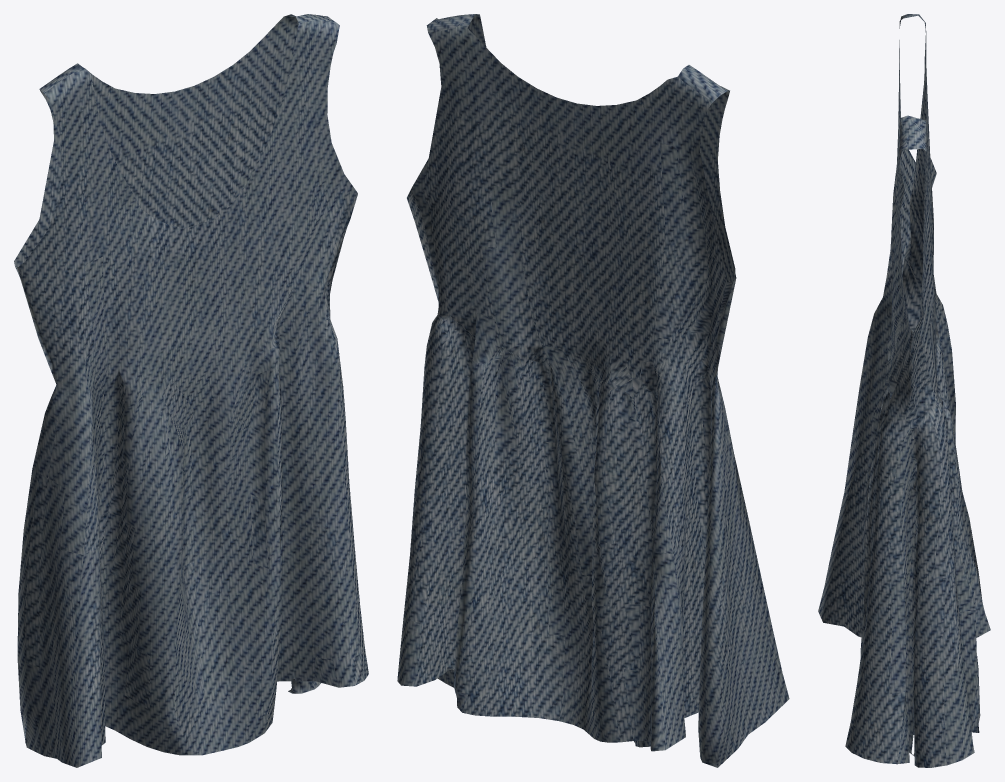
Rendered from yifu06_1.fbx.
3 renders of one model, left to right at view 1: azimuth 30°, elevation 25°; view 2: azimuth 150°, elevation 25°; view 3: azimuth 270°, elevation 25°, orthographic. The views are drawn at different scales.
Parts seen in each view (by area): view 1: yifu06_1; view 2: yifu06_1; view 3: yifu06_1.
Boxes of the visible parts, bbox=[...] form: yifu06_1: bbox=[14, 14, 368, 767]; yifu06_1: bbox=[397, 14, 789, 767]; yifu06_1: bbox=[818, 14, 990, 767].
Bounding box in the file's own units: 41.89 × 83.99 × 19.78.
